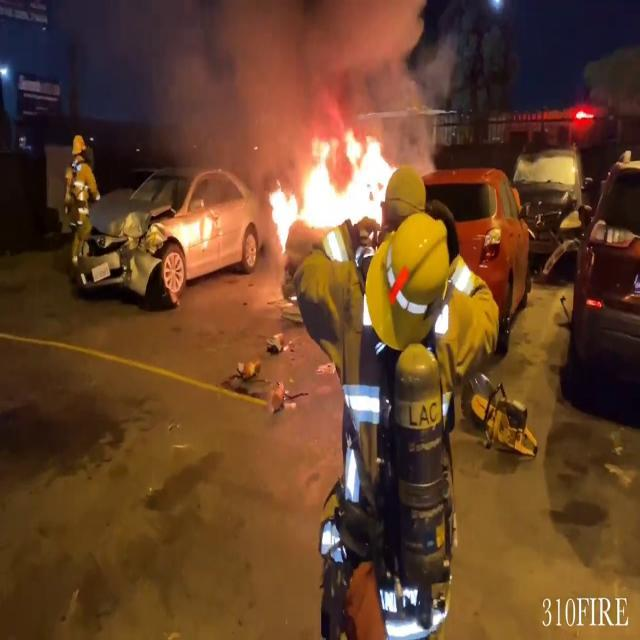Fire: (262, 122, 408, 256)
Smoke: (163, 0, 467, 140)
